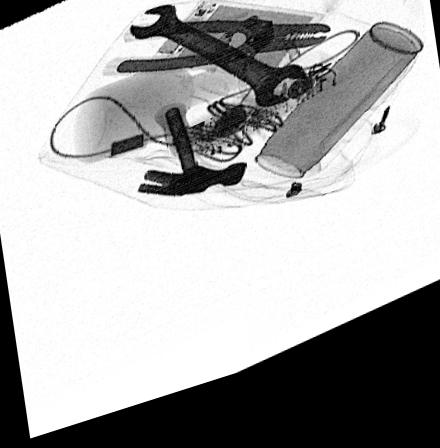Hammer: (136, 114, 245, 207)
Pliers: (104, 29, 332, 83)
Powerbank: (146, 9, 328, 102)
Wrench: (129, 15, 308, 124)
